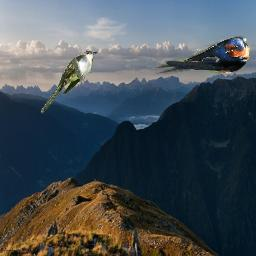Cuckoo: (40, 50, 98, 115)
Swallow: (155, 36, 251, 74)
